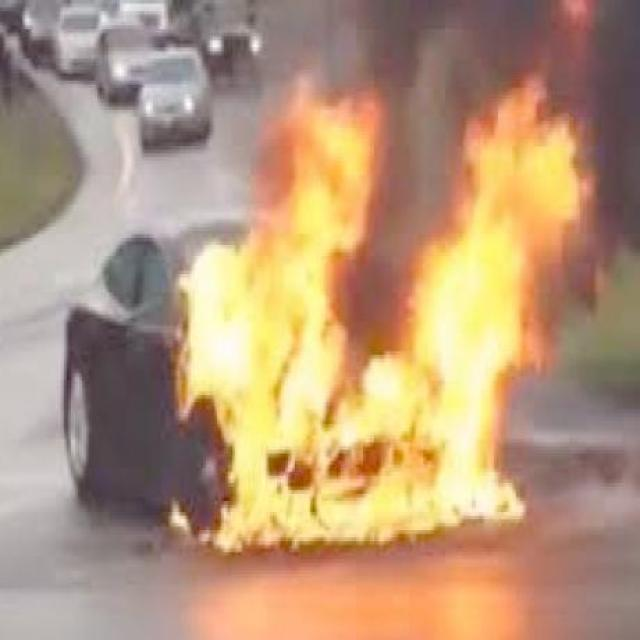Fire: (165, 81, 590, 586)
Smoke: (260, 3, 640, 91), (384, 39, 464, 230), (582, 62, 640, 320)
